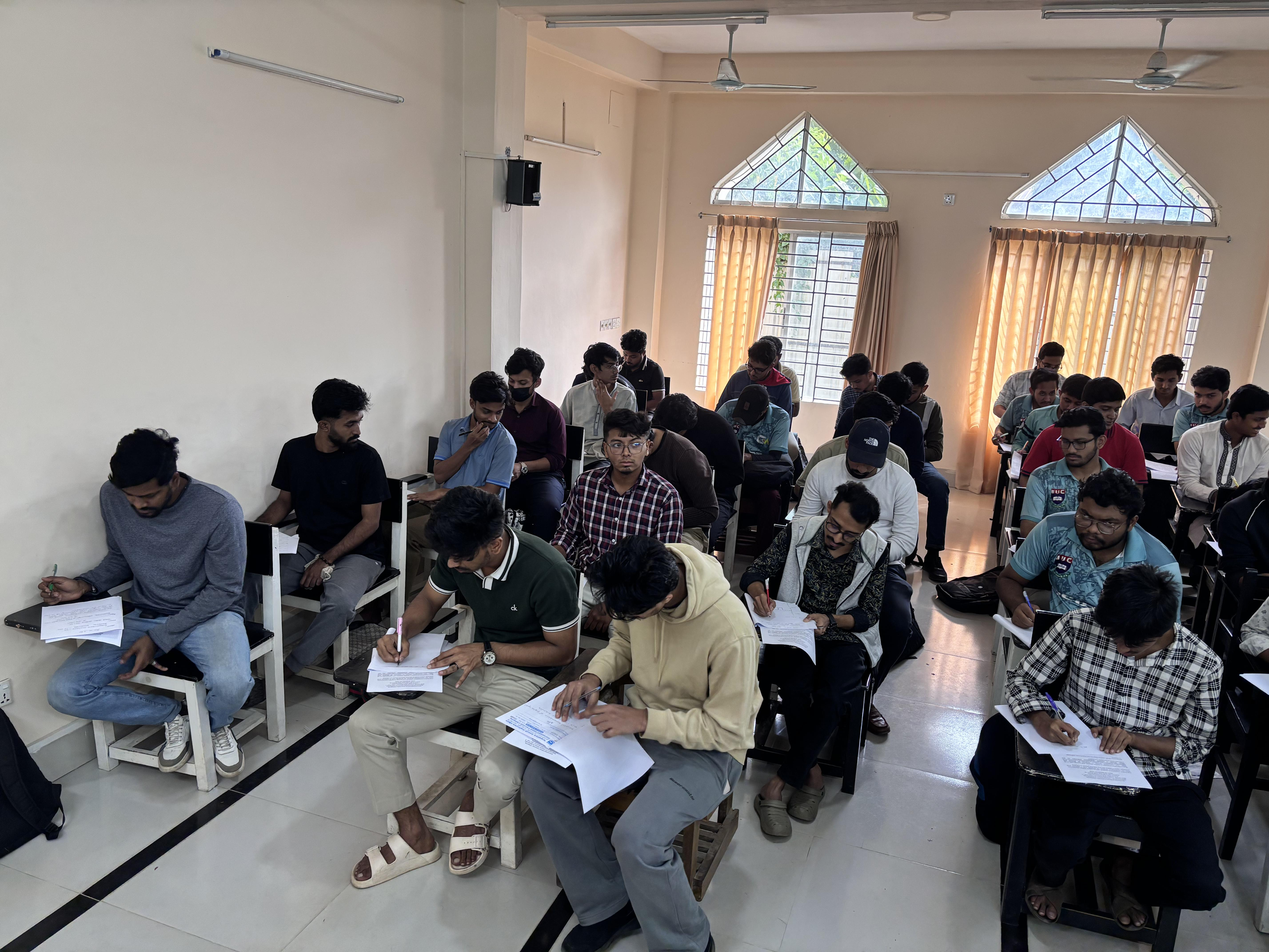copying: (523, 527, 752, 829), (268, 382, 410, 618), (431, 368, 513, 502), (1086, 372, 1127, 441)
hidden_communication: (833, 351, 879, 403), (741, 340, 779, 388)
no_cheating: (29, 411, 277, 754), (981, 566, 1237, 874), (378, 479, 550, 787), (759, 478, 890, 681), (1012, 469, 1160, 584), (560, 406, 674, 551), (814, 416, 910, 497), (1041, 408, 1106, 481), (714, 379, 786, 438), (1135, 349, 1190, 418), (500, 346, 548, 417), (619, 322, 655, 392), (1052, 371, 1089, 419), (1018, 364, 1060, 406), (1033, 338, 1070, 377)
side_talking: (1179, 386, 1269, 499), (573, 336, 636, 409)
suspicious_moving: (1183, 361, 1226, 422)
